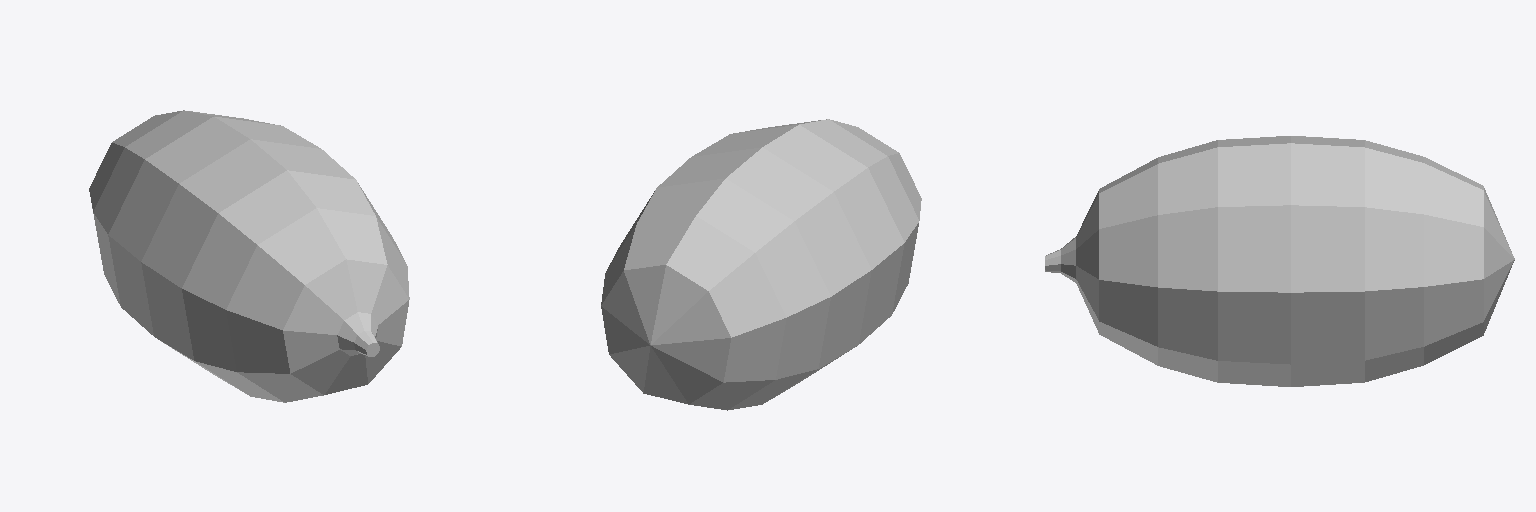
The picture shows the model from 3 angles: view 1: azimuth 30°, elevation 25°; view 2: azimuth 150°, elevation 25°; view 3: azimuth 270°, elevation 25°; orthographic projection.
Parts seen in each view (by area): view 1: Melon_Sphere.008; view 2: Melon_Sphere.008; view 3: Melon_Sphere.008.
Part boxes in pixels (x1,y1,x2,y2): Melon_Sphere.008: (89, 110, 409, 402); Melon_Sphere.008: (601, 119, 921, 410); Melon_Sphere.008: (1045, 136, 1514, 386).
Size of the model in its own units: 12.17 by 11.99 by 22.64.